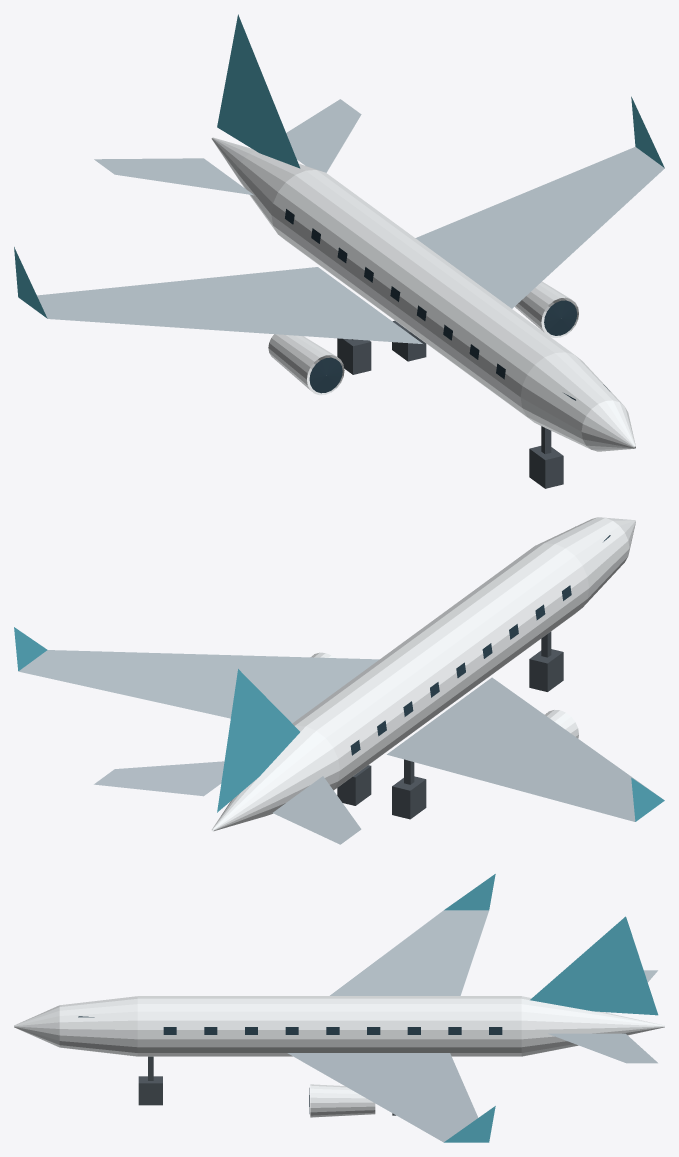
File: regional-KLM.gltf
3 renders of one model, top to bottom at view 1: azimuth 30°, elevation 25°; view 2: azimuth 150°, elevation 25°; view 3: azimuth 270°, elevation 25°, orthographic. The views are drawn at different scales.
Visible parts, largest first — view 1: object 1, Gear; view 2: object 1, Gear; view 3: object 1, Gear.
Part boxes in pixels (x1,y1,x2,y2): object 1: [14, 14, 664, 451]; Gear: [337, 320, 563, 488]; object 1: [14, 517, 664, 844]; Gear: [337, 631, 563, 819]; object 1: [14, 874, 664, 1142]; Gear: [138, 1056, 395, 1115].
Bounding box in the file's own units: 27 × 10.08 × 32.
